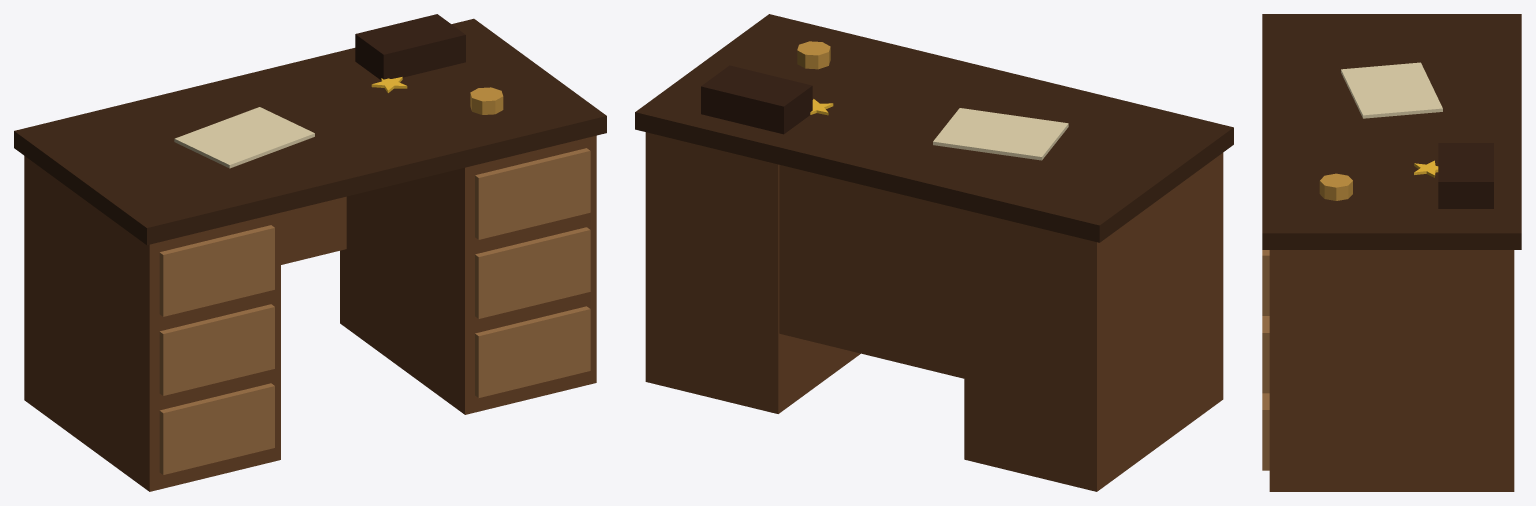
The model's file is SM_Sheriff_Desk.obj.
3 views of the same model, side by side, from view 1: azimuth 30°, elevation 25°; view 2: azimuth 150°, elevation 25°; view 3: azimuth 270°, elevation 25° (orthographic). The views are drawn at different scales.
Visible parts, largest first — view 1: SM_Sheriff_Desk; view 2: SM_Sheriff_Desk; view 3: SM_Sheriff_Desk.
Boxes of the visible parts, x1=… form: SM_Sheriff_Desk: x1=14, y1=14, x2=606, y2=491; SM_Sheriff_Desk: x1=635, y1=14, x2=1233, y2=491; SM_Sheriff_Desk: x1=1262, y1=14, x2=1521, y2=491.
Bounding box in the file's own units: 1.4 × 0.86 × 0.7.
